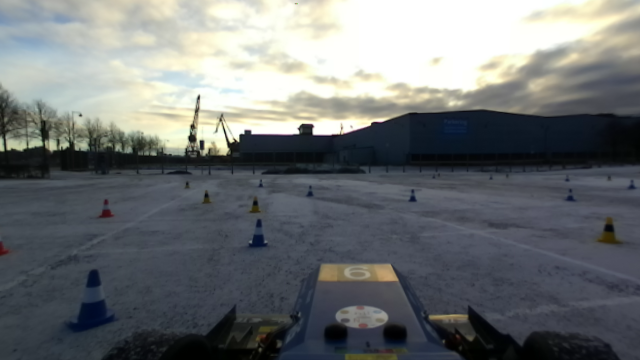blue: (68, 269, 117, 330), (245, 217, 271, 249), (562, 186, 577, 205), (405, 187, 418, 204), (255, 176, 265, 191), (305, 182, 314, 197)
orange: (98, 196, 114, 220)
yellow: (594, 215, 625, 248), (202, 186, 212, 206)
